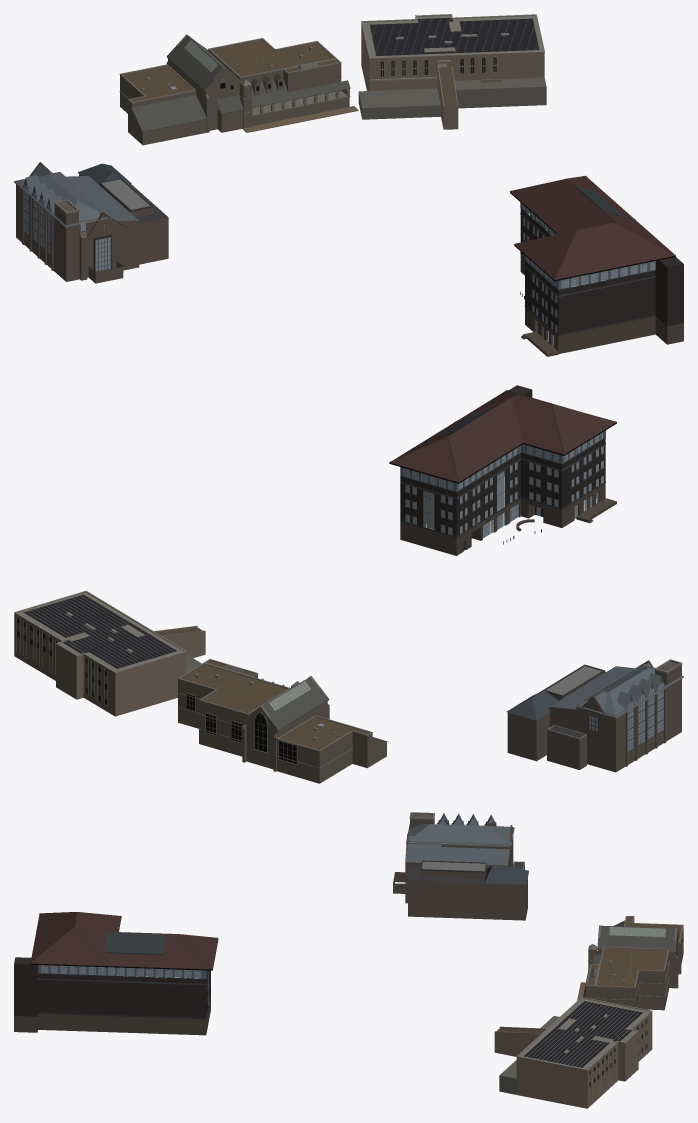
3 views of the same model, one above another, from view 1: azimuth 30°, elevation 25°; view 2: azimuth 150°, elevation 25°; view 3: azimuth 270°, elevation 25° (orthographic). The views are drawn at different scales.
Visible parts, largest first — view 1: opaque, glass; view 2: opaque, glass; view 3: opaque, glass.
Boxes of the visible parts, box(x1,y1,x2,y2) form: opaque: box(14, 14, 683, 356); glass: box(24, 57, 655, 345); opaque: box(14, 385, 683, 783); glass: box(17, 432, 663, 763); opaque: box(14, 812, 683, 1108); glass: box(41, 817, 681, 1086).
Size of the model in its own units: 182 by 34.15 by 210.
2 materials, 2 textured.
